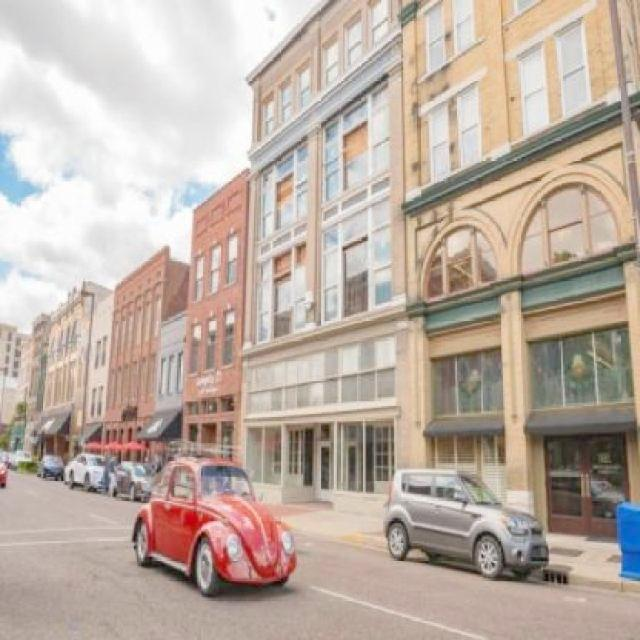car: (131, 457, 297, 585), (387, 456, 552, 581)
